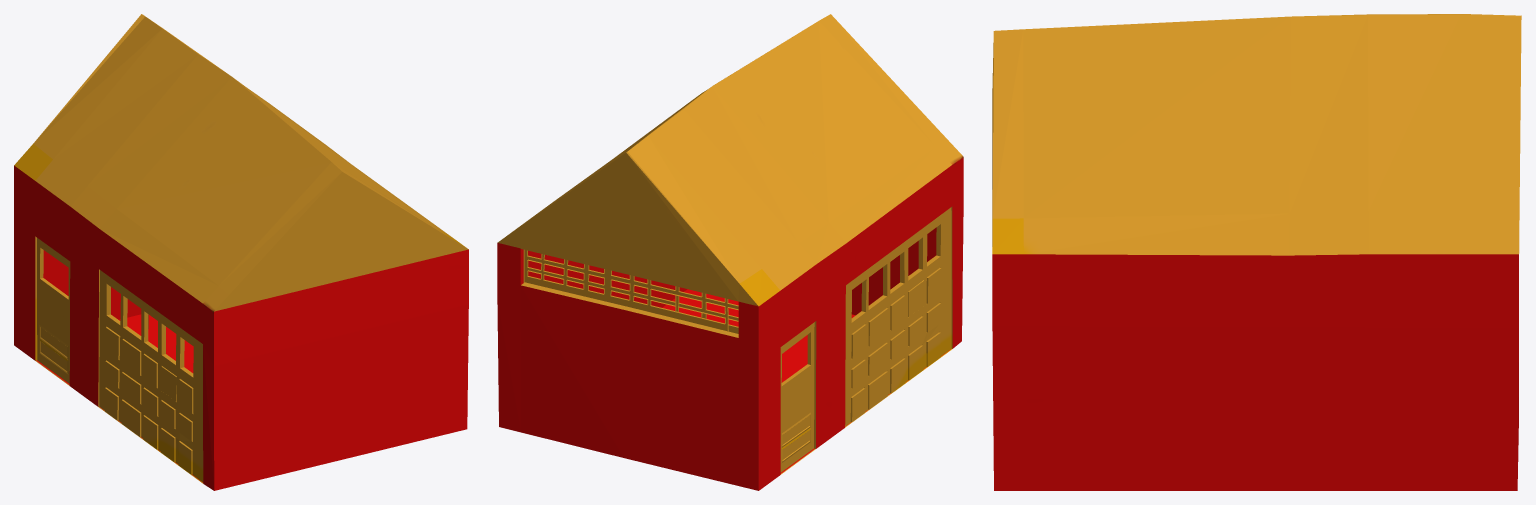
Rendered from Garagem.fbx.
3 renders of one model, left to right at view 1: azimuth 30°, elevation 25°; view 2: azimuth 150°, elevation 25°; view 3: azimuth 270°, elevation 25°, orthographic. The views are drawn at different scales.
Visible parts, largest first — view 1: pCube1; view 2: pCube1; view 3: pCube1.
Part boxes in pixels (<box>): pCube1: <box>14,14,468,490</box>; pCube1: <box>497,14,963,490</box>; pCube1: <box>992,14,1521,490</box>.
Size of the model in its own units: 14.92 by 16.64 by 20.15.
1 material, 1 textured.
